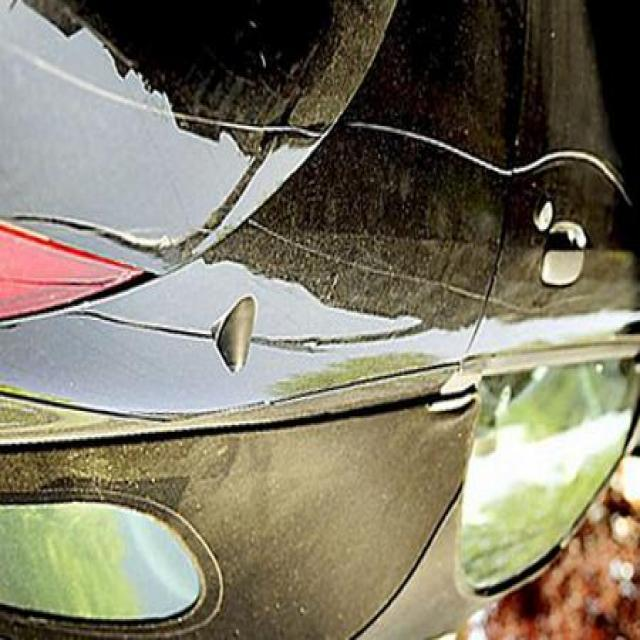scratch: (8, 33, 320, 149), (350, 106, 640, 208), (242, 208, 485, 306)
